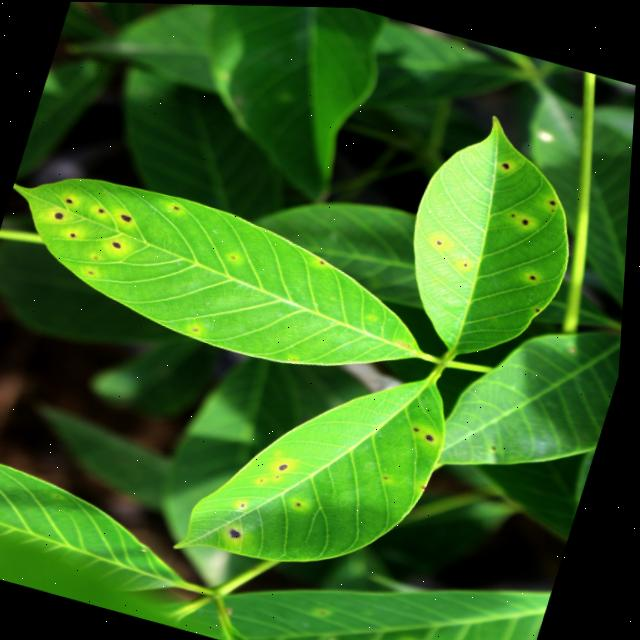Colletotrichum: (234, 526, 249, 537), (122, 212, 135, 221), (284, 460, 293, 469), (56, 210, 66, 218), (115, 240, 124, 248), (503, 158, 512, 166), (430, 431, 439, 439), (524, 216, 531, 222), (438, 237, 445, 243), (551, 197, 558, 202), (532, 272, 538, 277)
